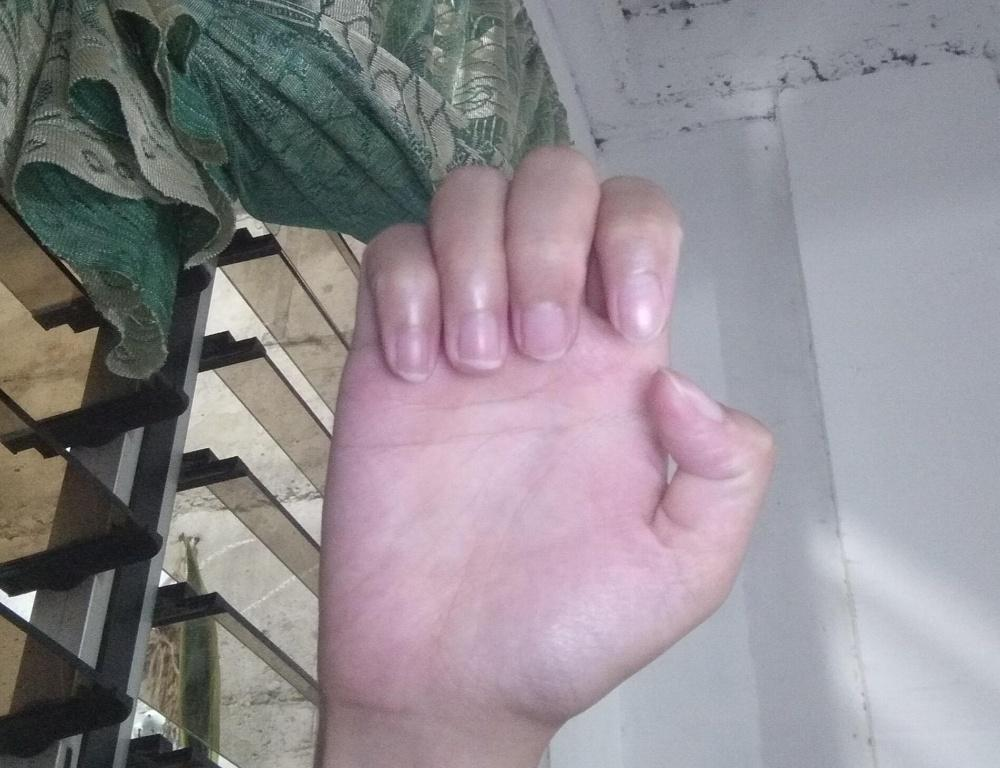e: (316, 142, 777, 735)
